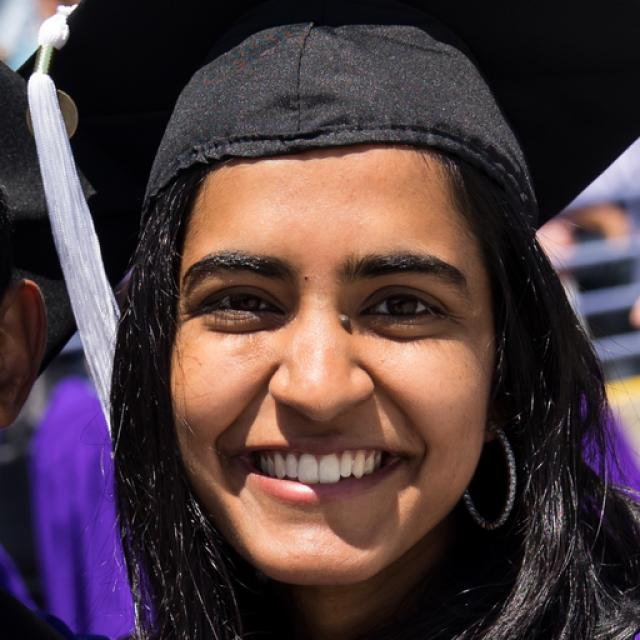Acne: (330, 304, 356, 336)
